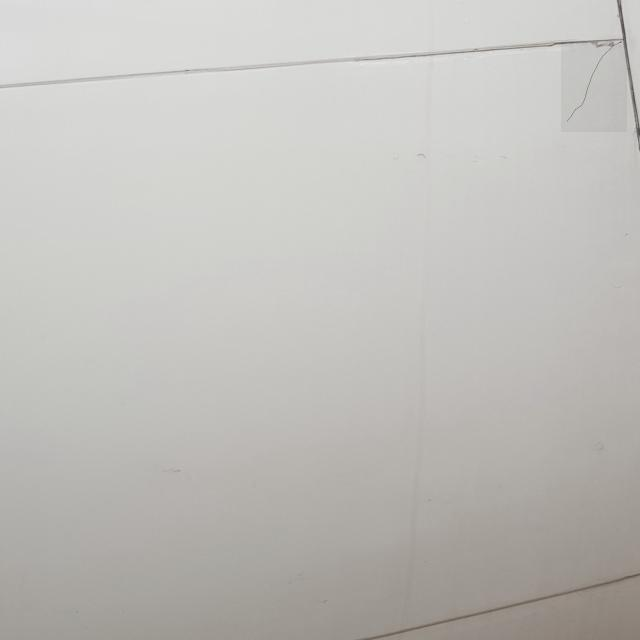crack: (562, 43, 628, 134)
